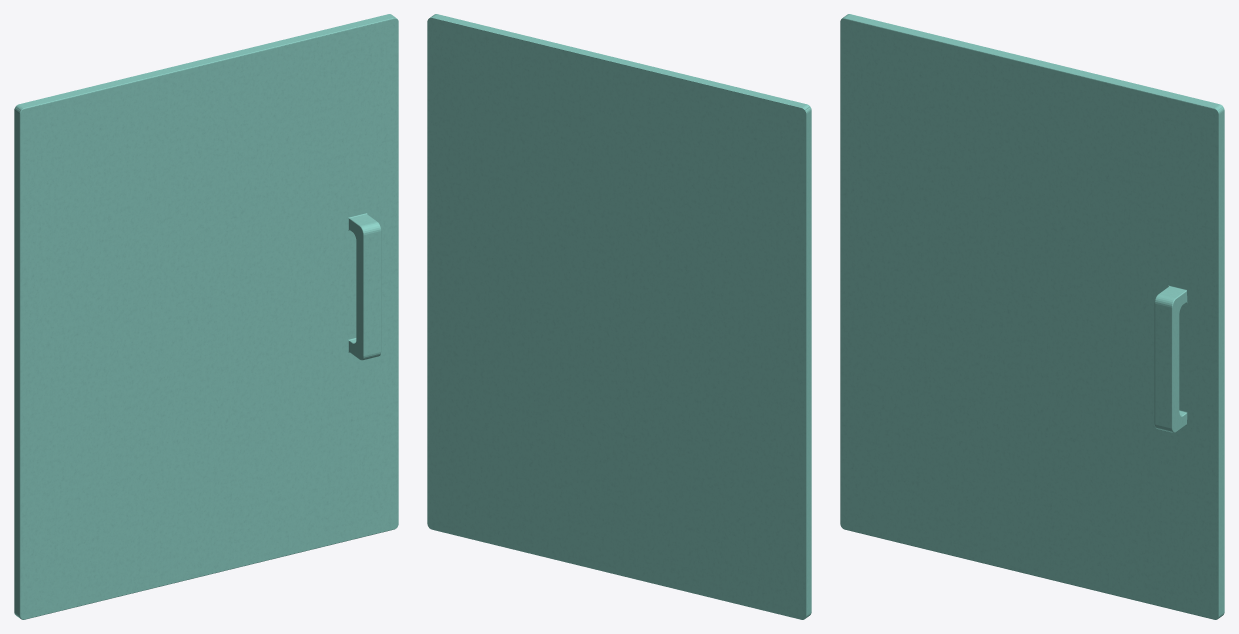
Rendered from KitchenCabinets.005.fbx.
3 views of the same model, side by side, from view 1: azimuth 30°, elevation 25°; view 2: azimuth 150°, elevation 25°; view 3: azimuth 330°, elevation 25° (orthographic).
Parts seen in each view (by area): view 1: KitchenCabinets.005_Baked; view 2: KitchenCabinets.005_Baked; view 3: KitchenCabinets.005_Baked.
Boxes of the visible parts, left/top/right/bottom form: KitchenCabinets.005_Baked: left=14, top=14, right=398, bottom=619; KitchenCabinets.005_Baked: left=427, top=14, right=811, bottom=619; KitchenCabinets.005_Baked: left=840, top=14, right=1224, bottom=619.
Size of the model in its own units: 61.6 by 79.5 by 5.69.
Materials: 1 (1 with a texture image).
